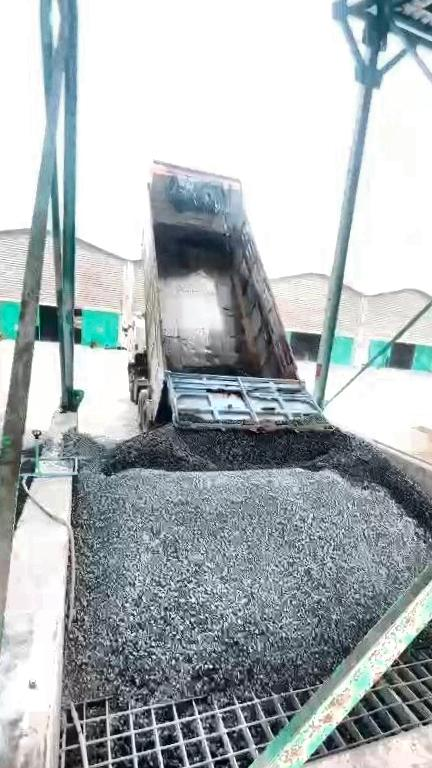gravel: (65, 439, 432, 700), (60, 412, 432, 526), (181, 275, 260, 376), (415, 606, 432, 645)
sand: (417, 426, 432, 468)
